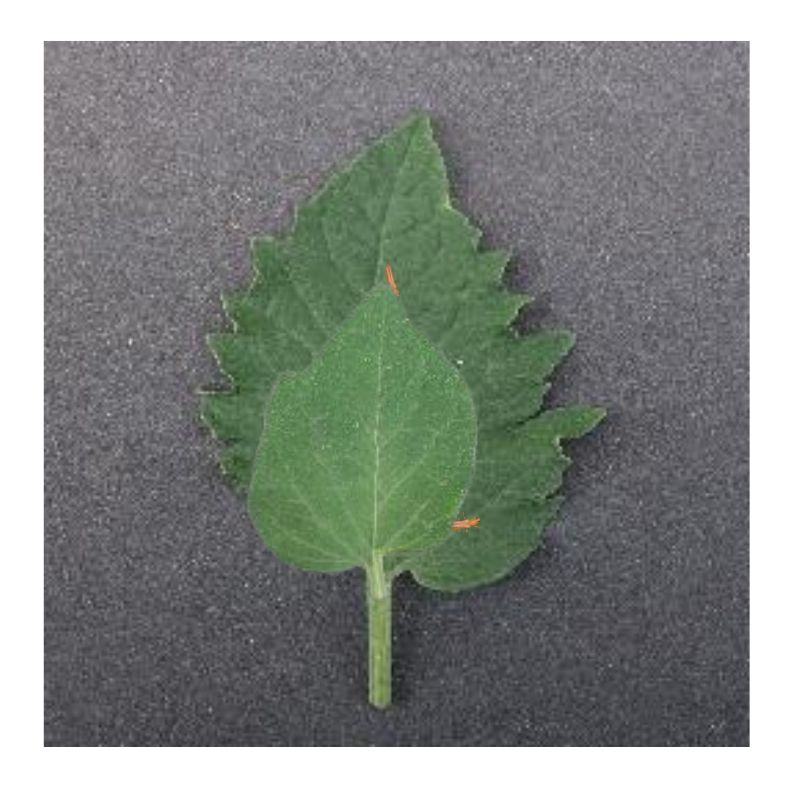thrips: (384, 259, 404, 299), (444, 513, 481, 529)
